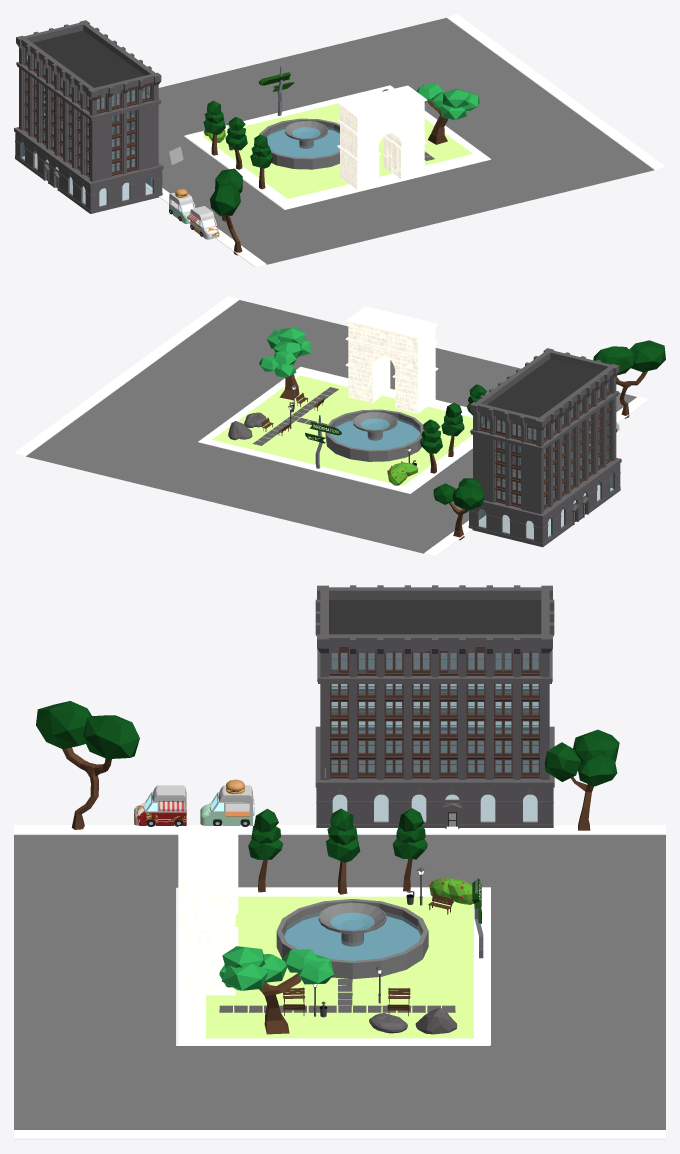
The picture shows the model from 3 angles, top to bottom: view 1: azimuth 30°, elevation 25°; view 2: azimuth 150°, elevation 25°; view 3: azimuth 270°, elevation 25°; orthographic projection. The views are drawn at different scales.
Visible parts, largest first — view 1: Plane.014, Cube.161, Cube.016, Plane, Circle.008, Cube.089, Cube.073, Cube.108, Cube.088, Cube.107; view 2: Plane.014, Cube.161, Plane, Cube.016, Circle.008, Cube.073, Cube.089, Cube.071, Cube.088, Cube.094, Cube.107, Icosphere.014; view 3: Plane.014, Cube.161, Plane, Cube.016, Circle.008, Cube.073, Cube.089, Cube.071, Cube.107, Cube.108, Cube.088, Cube.094 (+1 smaller).
Part boxes in pixels (x1=…): Plane.014: x1=132, y1=14, x2=665, y2=266; Cube.161: x1=14, y1=20, x2=163, y2=213; Cube.016: x1=337, y1=85, x2=427, y2=189; Plane: x1=202, y1=103, x2=472, y2=198; Circle.008: x1=259, y1=118, x2=339, y2=169; Cube.089: x1=415, y1=83, x2=479, y2=144; Cube.073: x1=210, y1=168, x2=242, y2=255; Cube.108: x1=250, y1=134, x2=272, y2=189; Cube.088: x1=203, y1=100, x2=225, y2=155; Cube.107: x1=225, y1=117, x2=247, y2=169; Plane.014: x1=14, y1=296, x2=649, y2=556; Cube.161: x1=468, y1=348, x2=621, y2=547; Plane: x1=212, y1=375, x2=472, y2=486; Cube.016: x1=345, y1=306, x2=438, y2=413; Circle.008: x1=325, y1=409, x2=424, y2=461; Cube.073: x1=593, y1=340, x2=665, y2=418; Cube.089: x1=259, y1=327, x2=310, y2=400; Cube.071: x1=433, y1=478, x2=484, y2=540; Cube.088: x1=420, y1=419, x2=442, y2=473; Cube.094: x1=253, y1=387, x2=338, y2=445; Cube.107: x1=441, y1=402, x2=464, y2=456; Icosphere.014: x1=388, y1=461, x2=417, y2=485; Plane.014: x1=14, y1=825, x2=665, y2=1139; Cube.161: x1=315, y1=585, x2=554, y2=828; Plane: x1=206, y1=896, x2=473, y2=1038; Cube.016: x1=178, y1=826, x2=238, y2=995; Circle.008: x1=276, y1=899, x2=428, y2=978; Cube.073: x1=36, y1=701, x2=139, y2=829; Cube.089: x1=219, y1=946, x2=334, y2=1034; Cube.071: x1=544, y1=729, x2=619, y2=830; Cube.107: x1=326, y1=808, x2=360, y2=894; Cube.108: x1=248, y1=808, x2=283, y2=892; Cube.088: x1=392, y1=808, x2=427, y2=891; Cube.094: x1=219, y1=1005, x2=455, y2=1012.
Size of the model in its own units: 26.8 by 7.05 by 20.09.
Materials: 55 (4 with a texture image).
